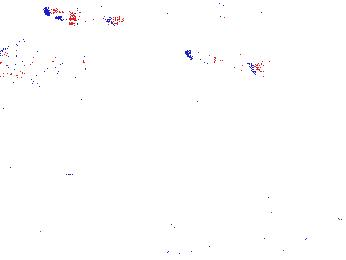X-ray fish: (1, 32, 71, 80)
red belly glassfish: (78, 40, 91, 72)
redtail glassfish: (182, 45, 266, 78), (39, 1, 123, 33)
